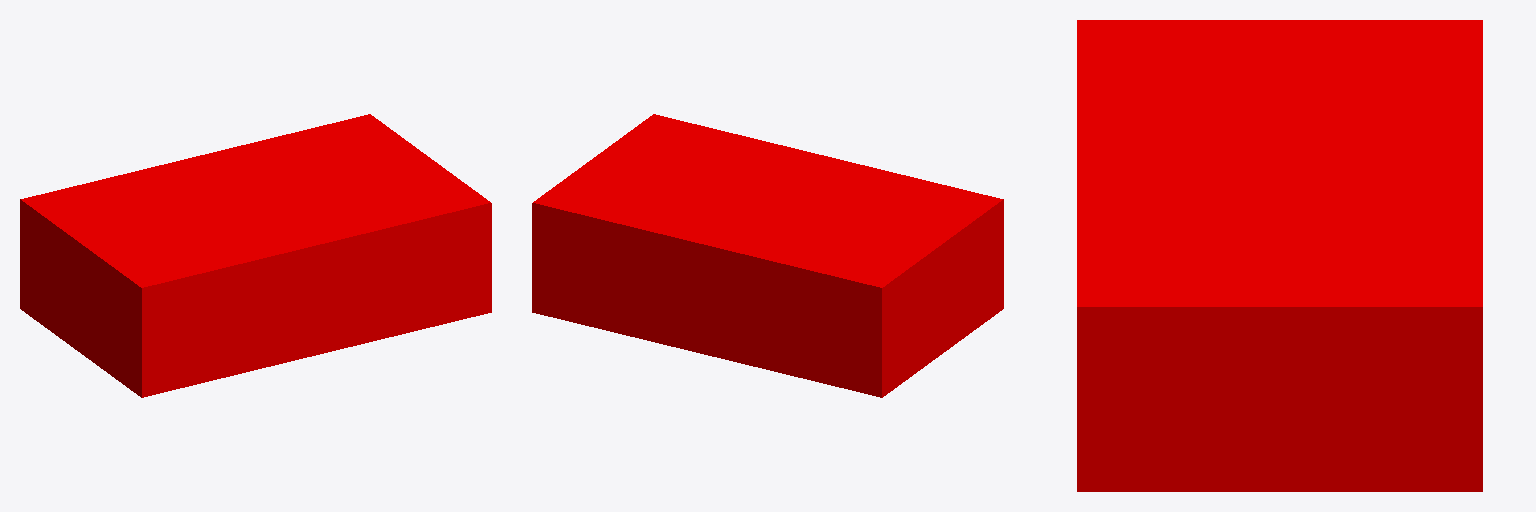
robot.urdf — fourwheel_robot:
<?xml version="1.0"?>
<!-- http://wiki.ros.org/urdf/XML/link -->
<robot name="fourwheel_robot">

	<!-- This is the body of the robot -->
	<link name="body_link">
		<visual>
			<origin rpy="0 0 0" xyz="0 0 0"/>
			<geometry>
				<box size="1 0.6 0.3" />
			</geometry>
			
			<material name="red">
				<color rgba="1 0 0 1"/>
			</material>
			
		</visual>
	</link>
</robot>

--- What the picture shows (computed from the rendered views, not written in the file) ---
3 views of the same robot in one strip: view 1: azimuth 30°, elevation 25°; view 2: azimuth 150°, elevation 25°; view 3: azimuth 270°, elevation 25° (orthographic).
Model fourwheel_robot with 1 links and 0 joints (none), rooted at body_link, posed every joint at zero.
Visible links, largest first — view 1: body_link; view 2: body_link; view 3: body_link.
Boxes of the visible links, x1=… form: body_link: x1=20, y1=114, x2=491, y2=397; body_link: x1=532, y1=114, x2=1003, y2=397; body_link: x1=1077, y1=20, x2=1482, y2=491.
Size in the robot's own frame: 1 by 0.6 by 0.3 metres.
Geometry: primitives only (box / cylinder / sphere), no mesh files.